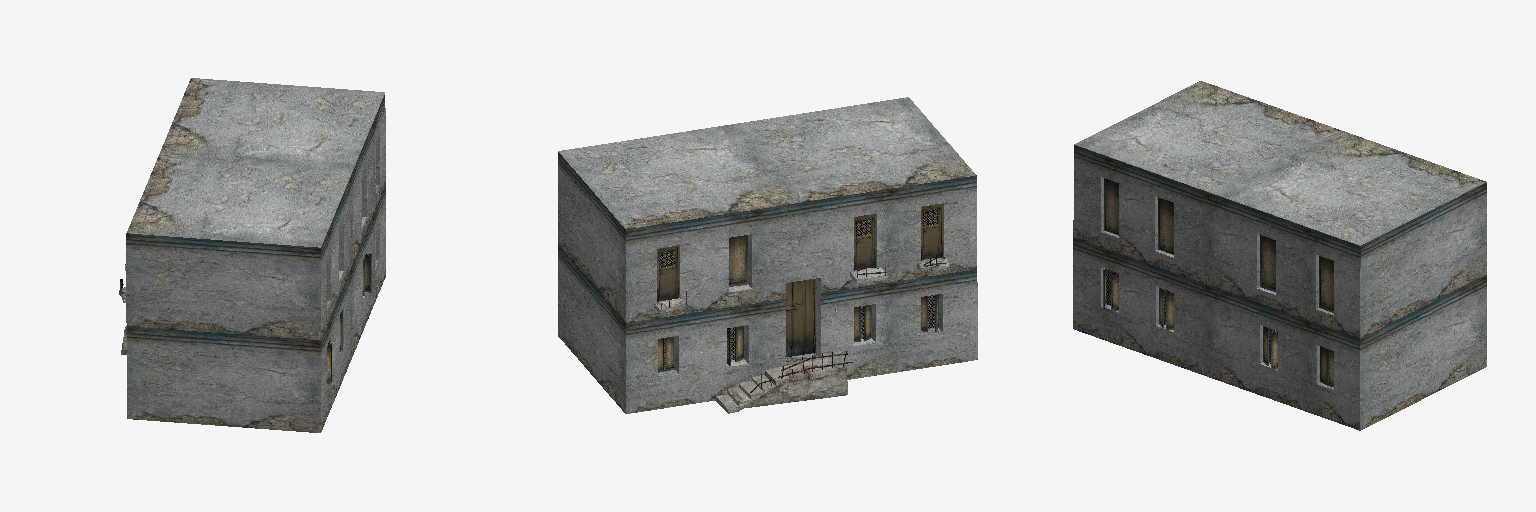
3 views of the same model, side by side, from view 1: azimuth 30°, elevation 25°; view 2: azimuth 150°, elevation 25°; view 3: azimuth 270°, elevation 25° (orthographic).
Size of the model in its own units: 313 by 164 by 331.
6 materials, 6 textured.